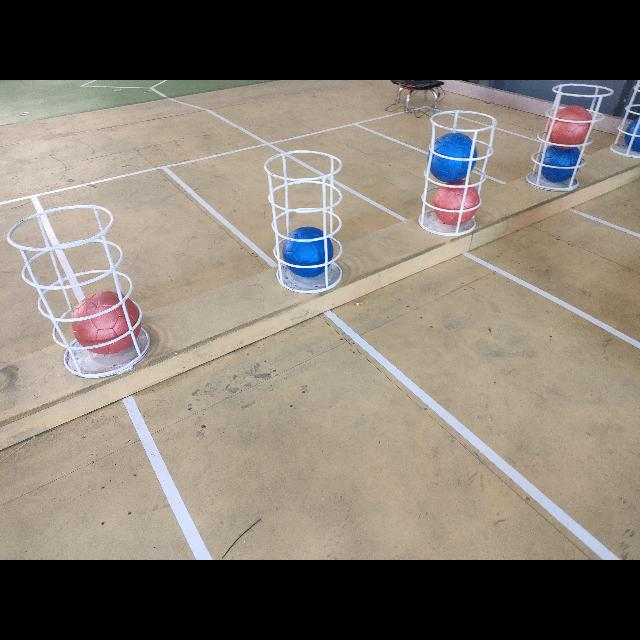B: (283, 226, 335, 278), (427, 132, 475, 180), (540, 143, 584, 183), (626, 116, 640, 152)
R: (72, 291, 140, 355), (434, 178, 481, 226), (548, 108, 592, 148)
